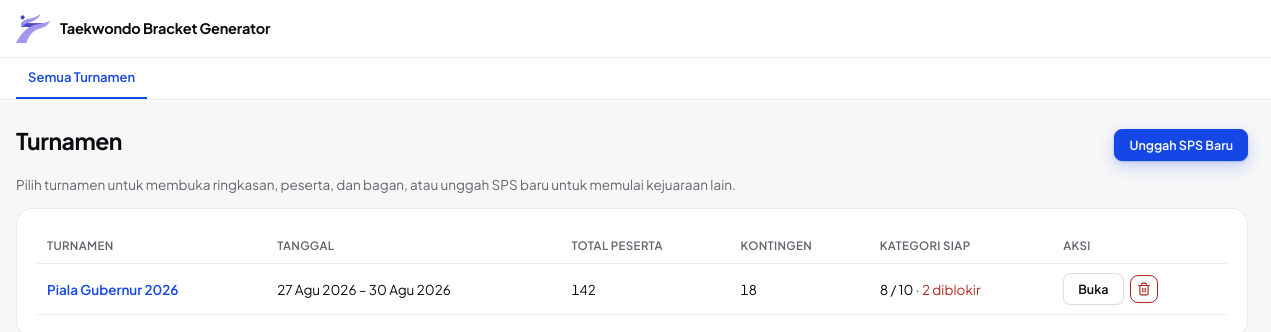
Scenario: TournamentListPage › archives a tournament (after confirming) and removes it from the list without a full reload
This screenshot has width=1271, height=332.
Check: the row with test id "tournament-row" is shown, box [37,264,1227,315]
Click the button named "Hapus Piala Gubernur 2026" at (1144, 289), box [1130,275,1158,303]
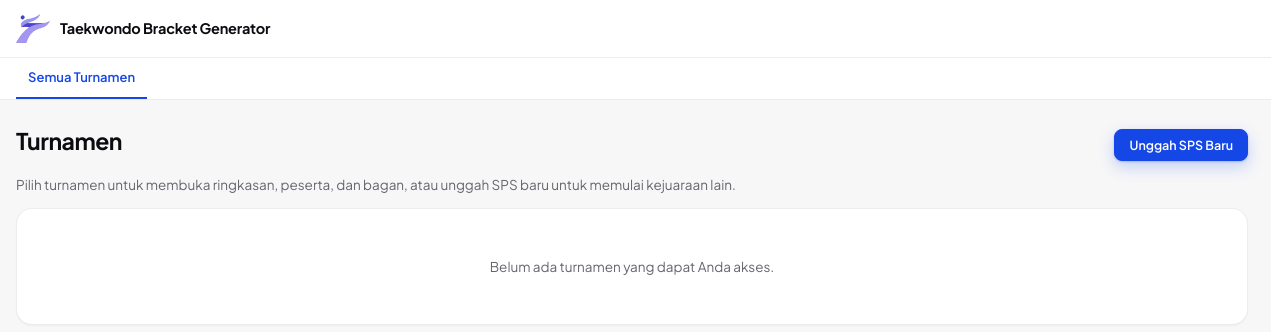
Check: the row with test id "tournament-row" is gone
